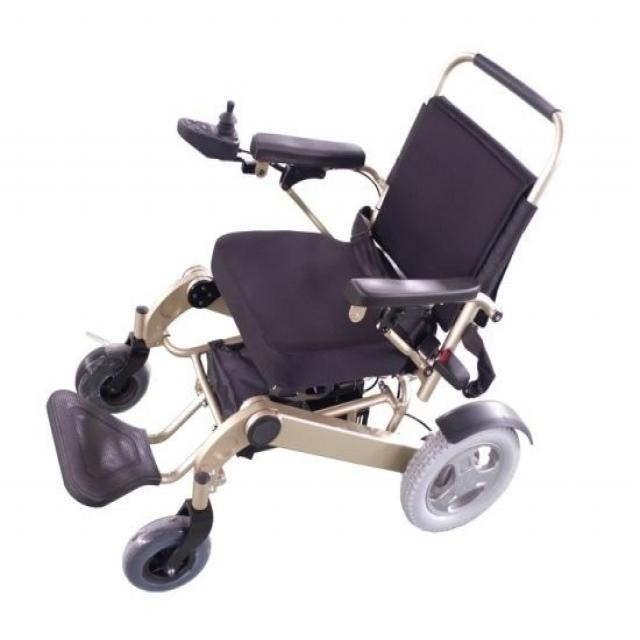wheelchair: (29, 43, 565, 597)
